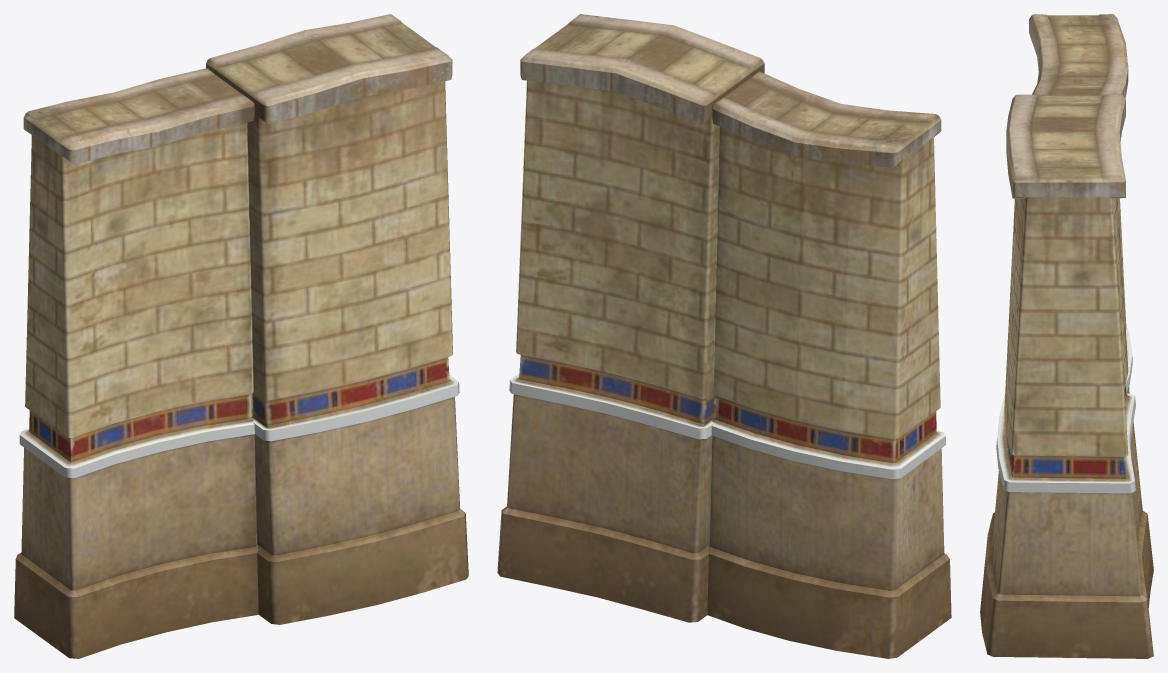
Rendered from 69-citadelwall-wall_citadel_short.glb.
3 renders of one model, left to right at view 1: azimuth 30°, elevation 25°; view 2: azimuth 150°, elevation 25°; view 3: azimuth 270°, elevation 25°, orthographic. The views are drawn at different scales.
Size of the model in its own units: 4.39 by 5.63 by 1.83.
Materials: 1 (1 with a texture image).
